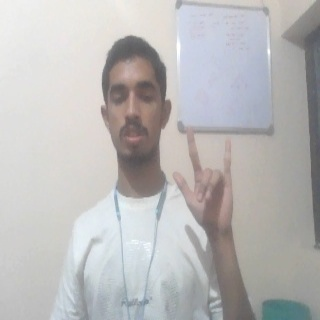Face: (97, 32, 174, 170)
I Love You: (173, 125, 239, 235)
